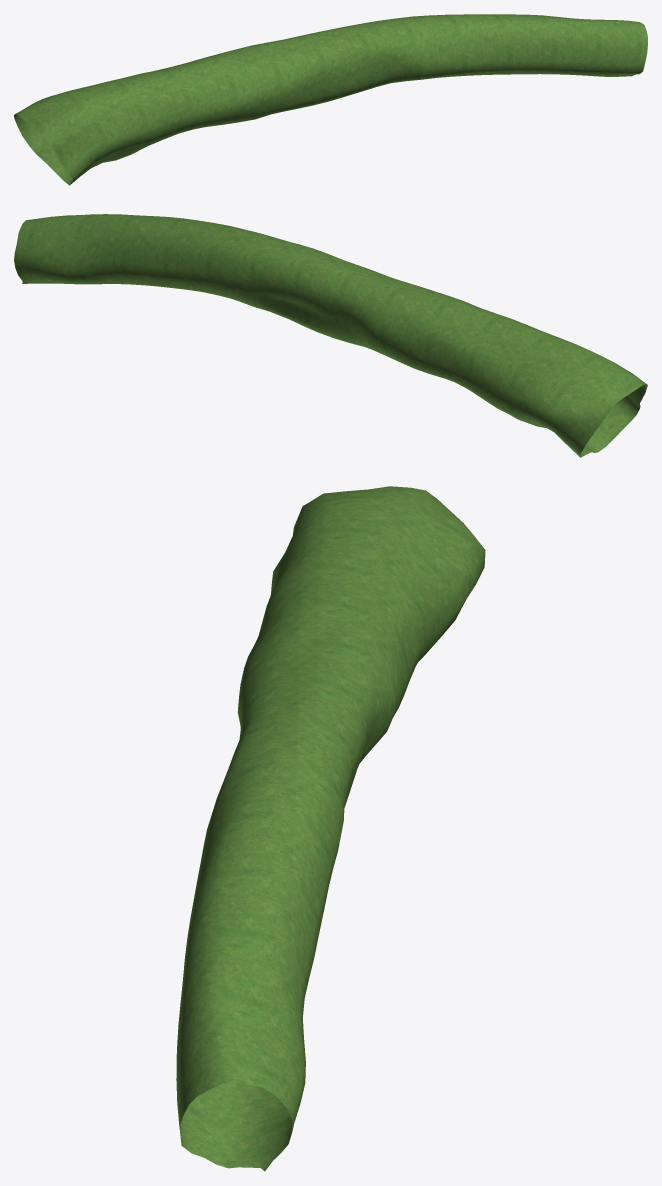
Rendered from SM_ENV_KNFRST_FallenTree_A.FBX.
The picture shows the model from 3 angles, top to bottom: view 1: azimuth 30°, elevation 25°; view 2: azimuth 150°, elevation 25°; view 3: azimuth 270°, elevation 25°; orthographic projection. The views are drawn at different scales.
Parts seen in each view (by area): view 1: SM_ENV_KNFRST_FallenTree_A; view 2: SM_ENV_KNFRST_FallenTree_A; view 3: SM_ENV_KNFRST_FallenTree_A.
Part boxes in pixels (x1,y1,x2,y2): SM_ENV_KNFRST_FallenTree_A: [14, 14, 647, 185]; SM_ENV_KNFRST_FallenTree_A: [14, 214, 647, 457]; SM_ENV_KNFRST_FallenTree_A: [176, 486, 485, 1171].
Bounding box in the file's own units: 6178 × 1002 × 1428.
